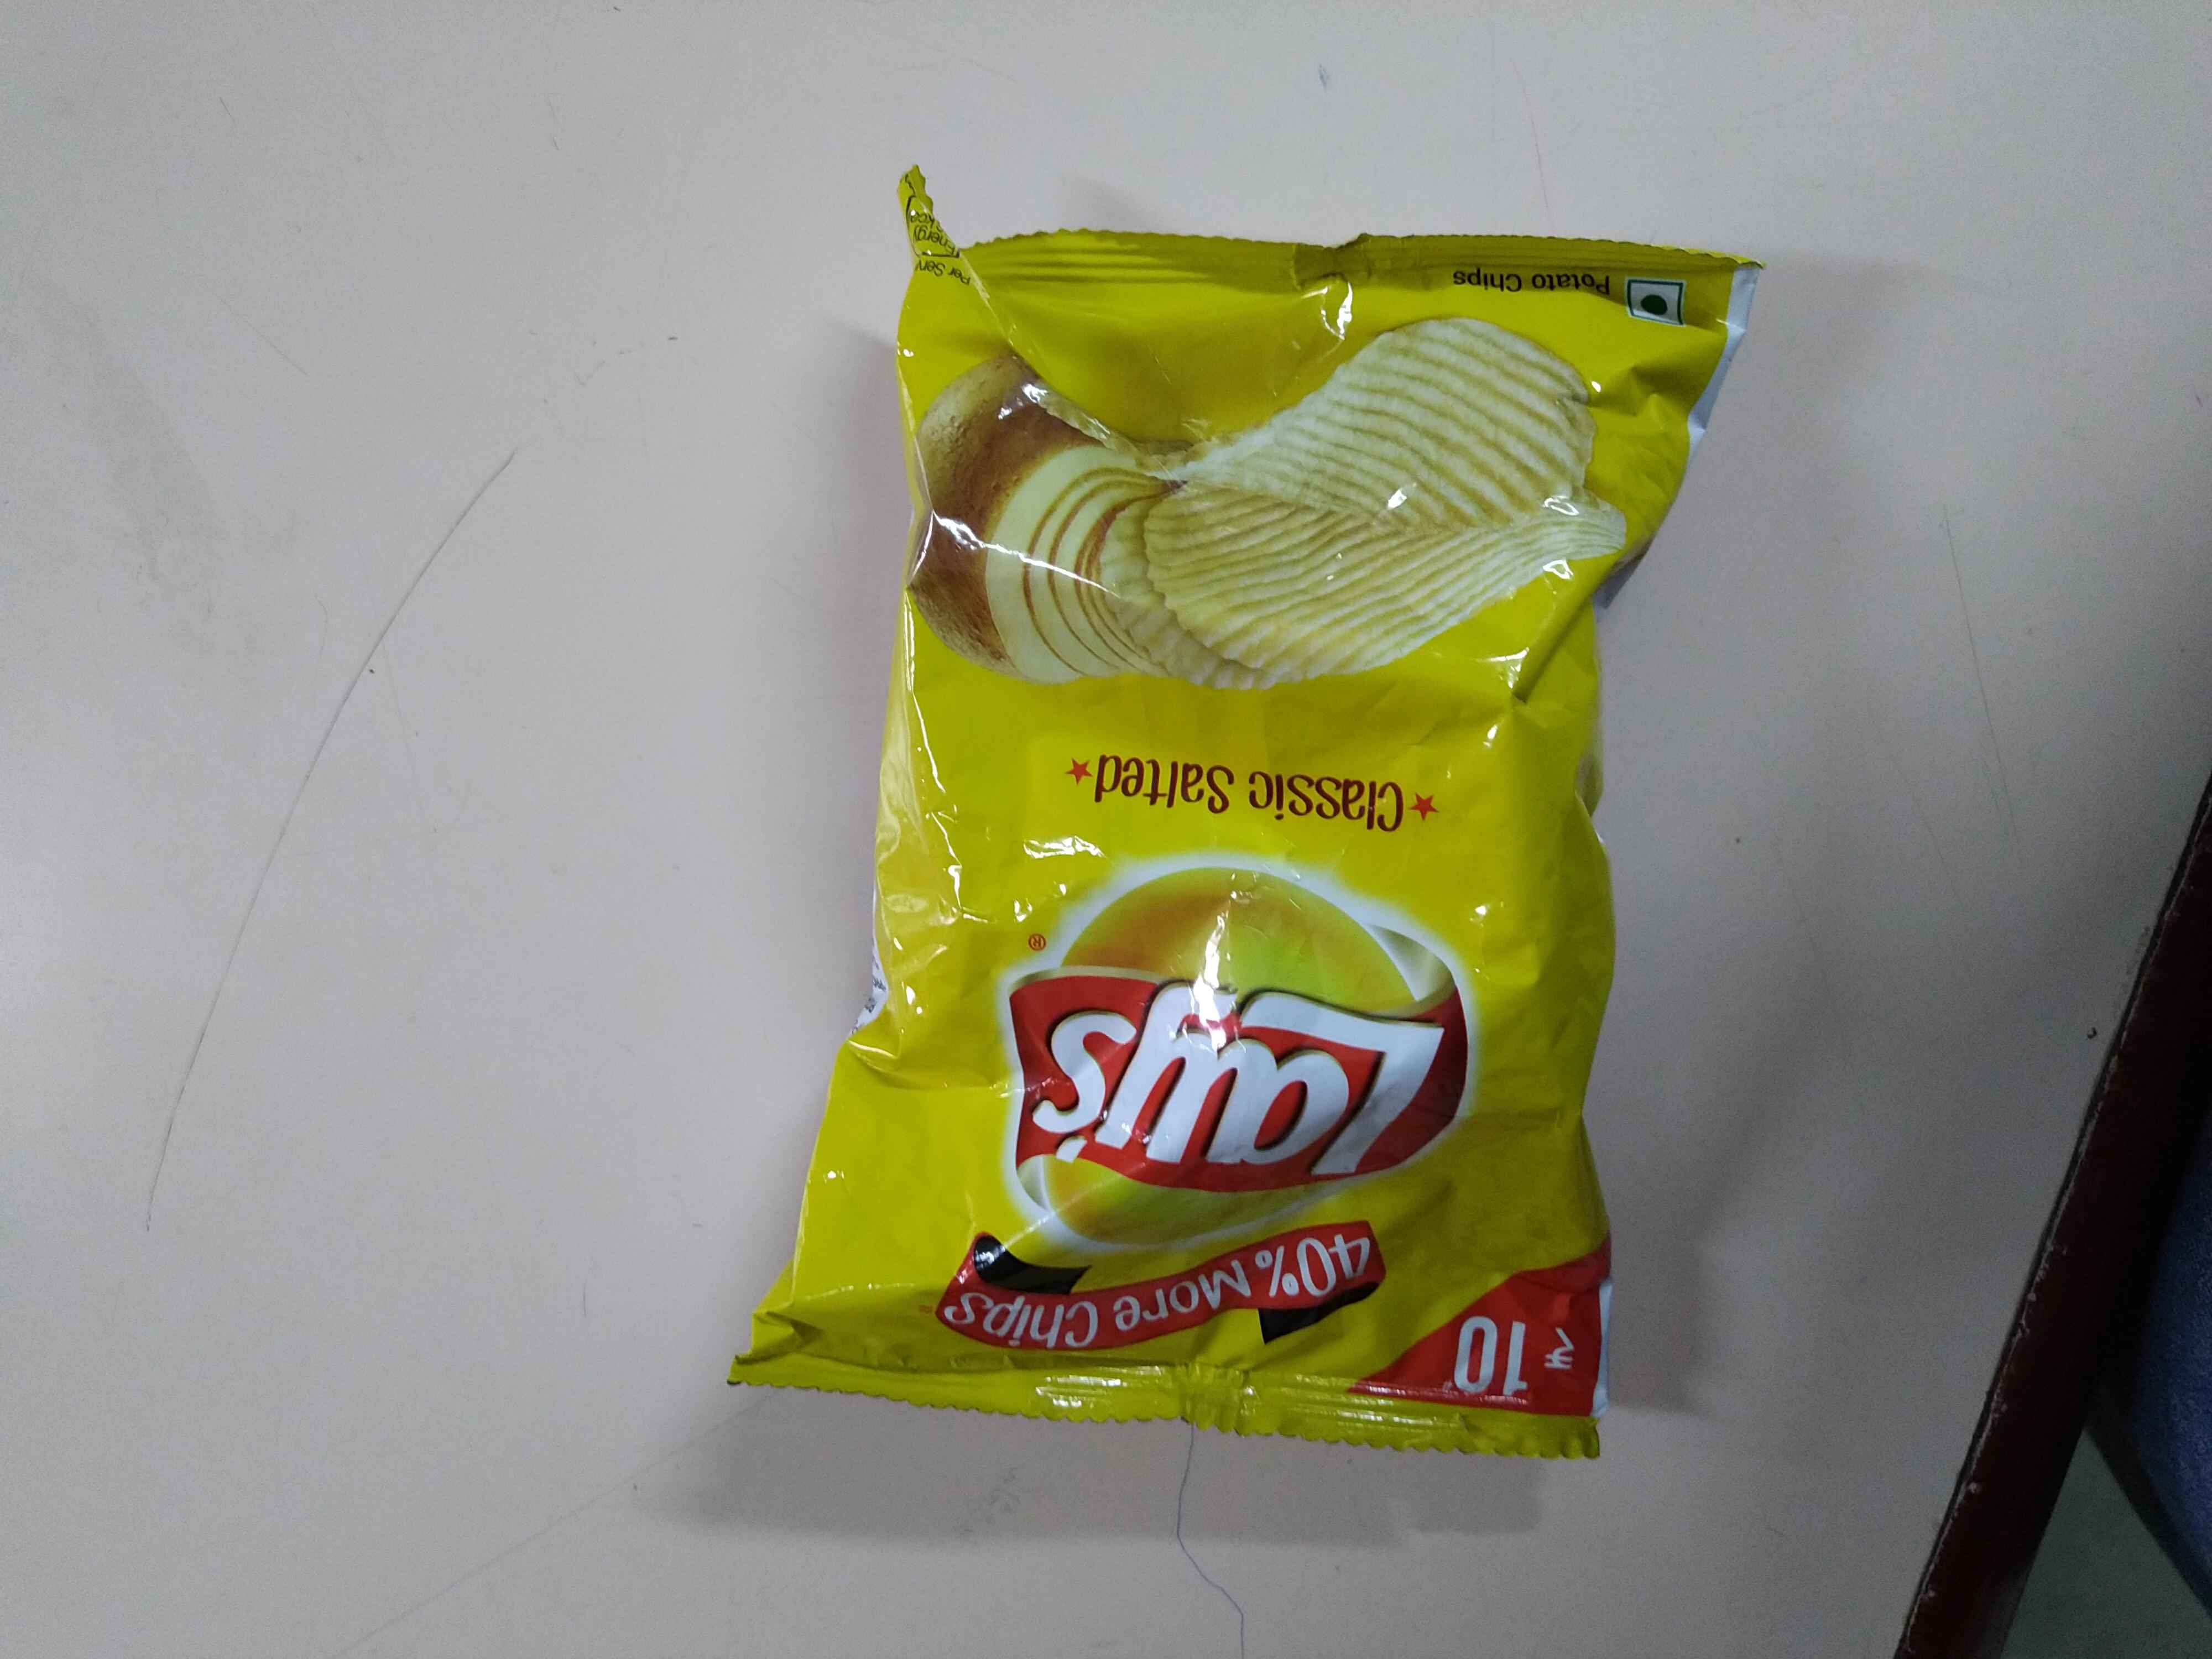Lays: (993, 840, 1475, 1237)
